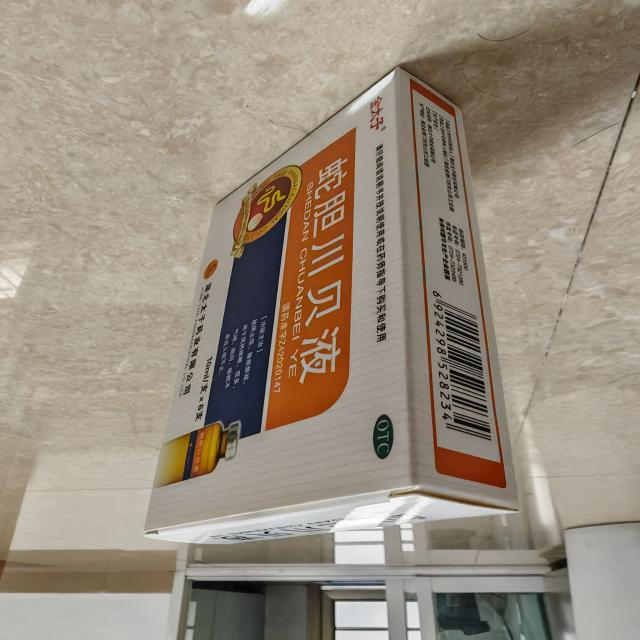box: (128, 62, 527, 550)
